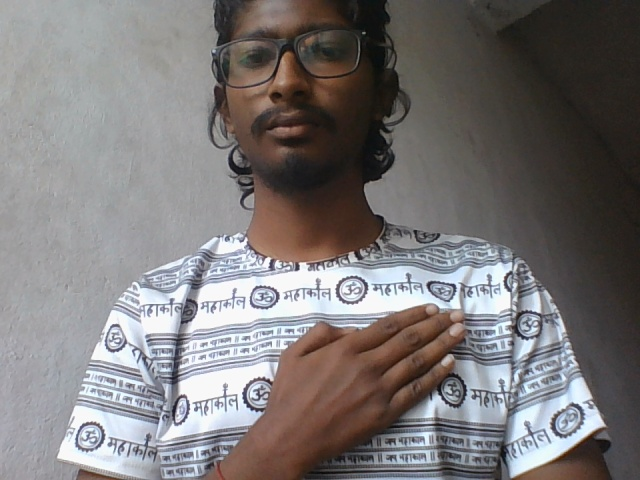Pay: (253, 299, 481, 457)
